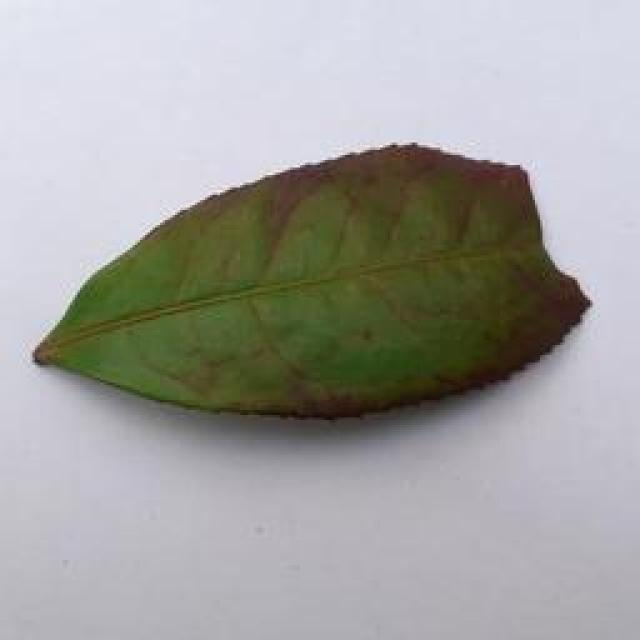Red Leaf Spot: (28, 143, 625, 433)
